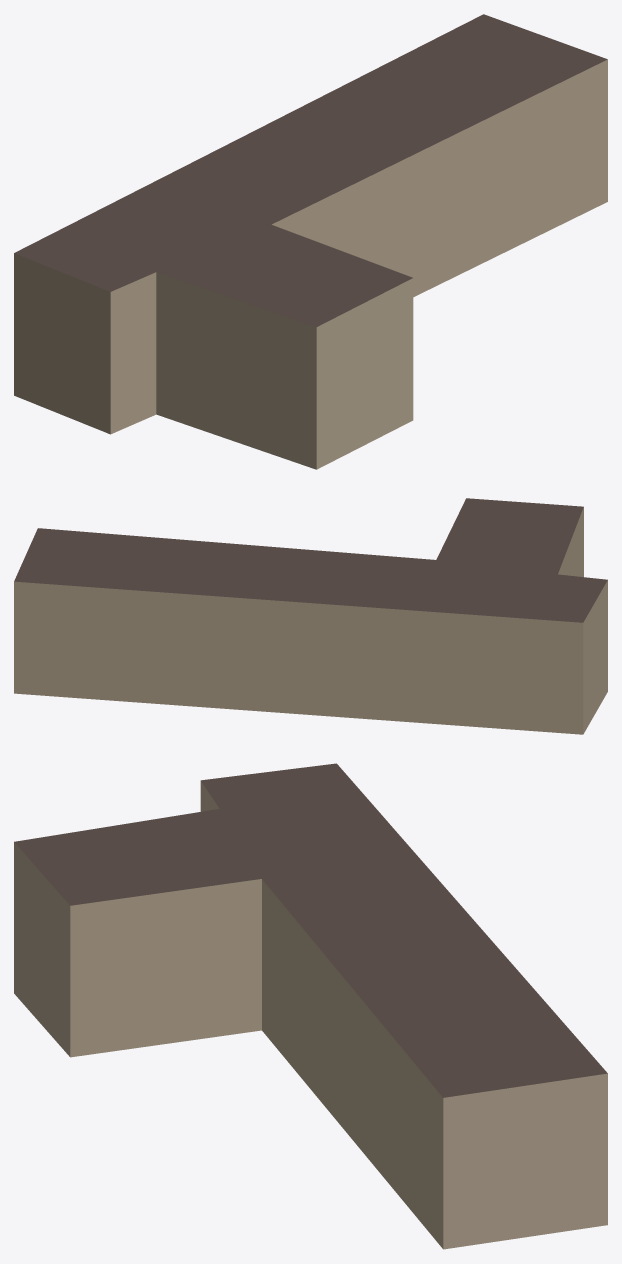
3 views of the same model, one above another, from view 1: azimuth 30°, elevation 25°; view 2: azimuth 150°, elevation 25°; view 3: azimuth 270°, elevation 25° (orthographic). The views are drawn at different scales.
Parts seen in each view (by area): view 1: HP-w1513026705; view 2: HP-w1513026705; view 3: HP-w1513026705.
Boxes of the visible parts, <box> form: HP-w1513026705: <box>14,14,607,469</box>; HP-w1513026705: <box>14,498,607,734</box>; HP-w1513026705: <box>14,763,607,1249</box>.
Size of the model in its own units: 42.57 by 9 by 31.95.
